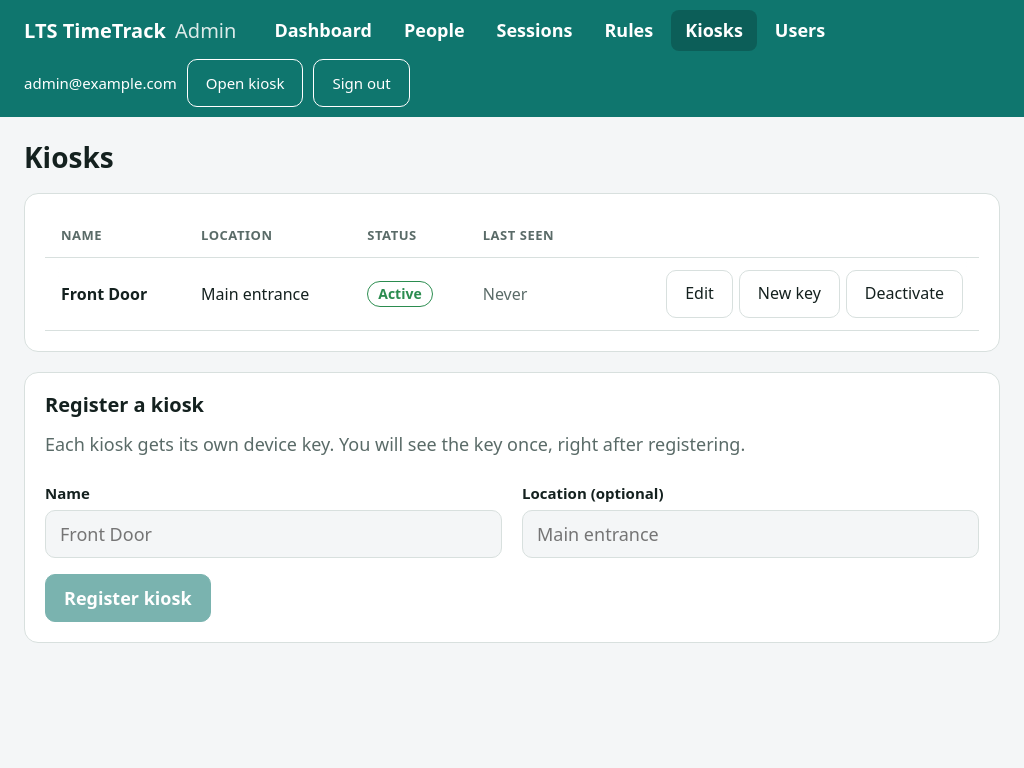
Test: kiosks page › renames a kiosk and changes its location
Click the button with aria-label "Edit Front Door" at x=700, y=294, box [666,270,733,318]
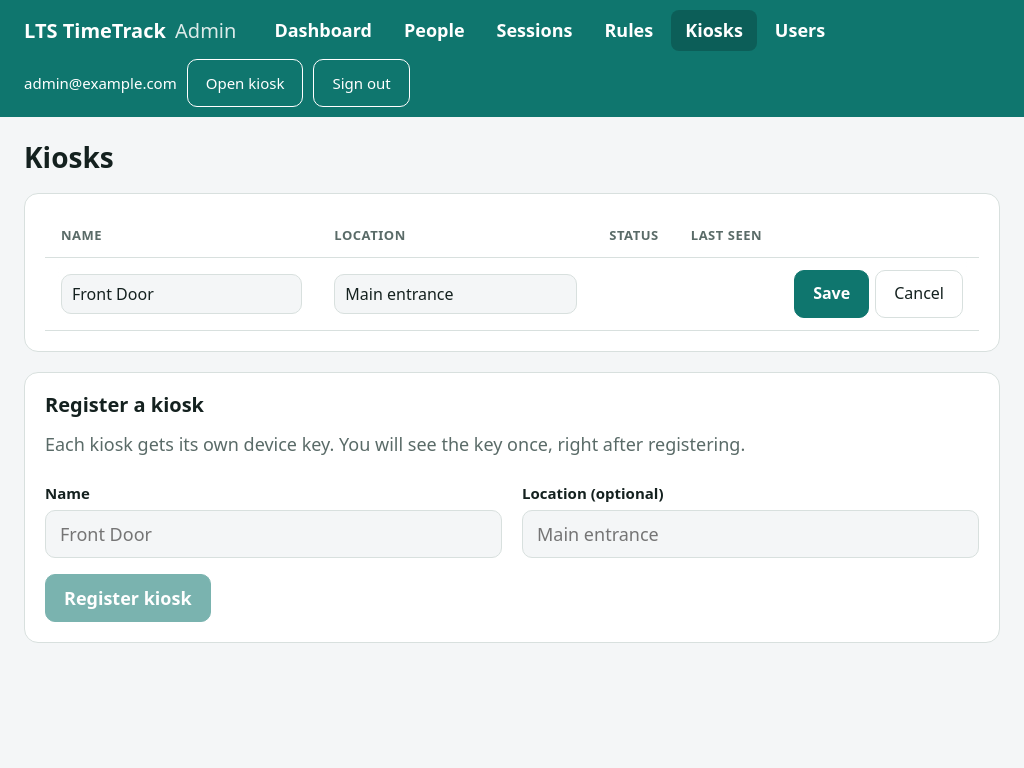
Replace the text in the field named "Kiosk name" with "Main Door" at x=182, y=294, box [61,274,302,314]
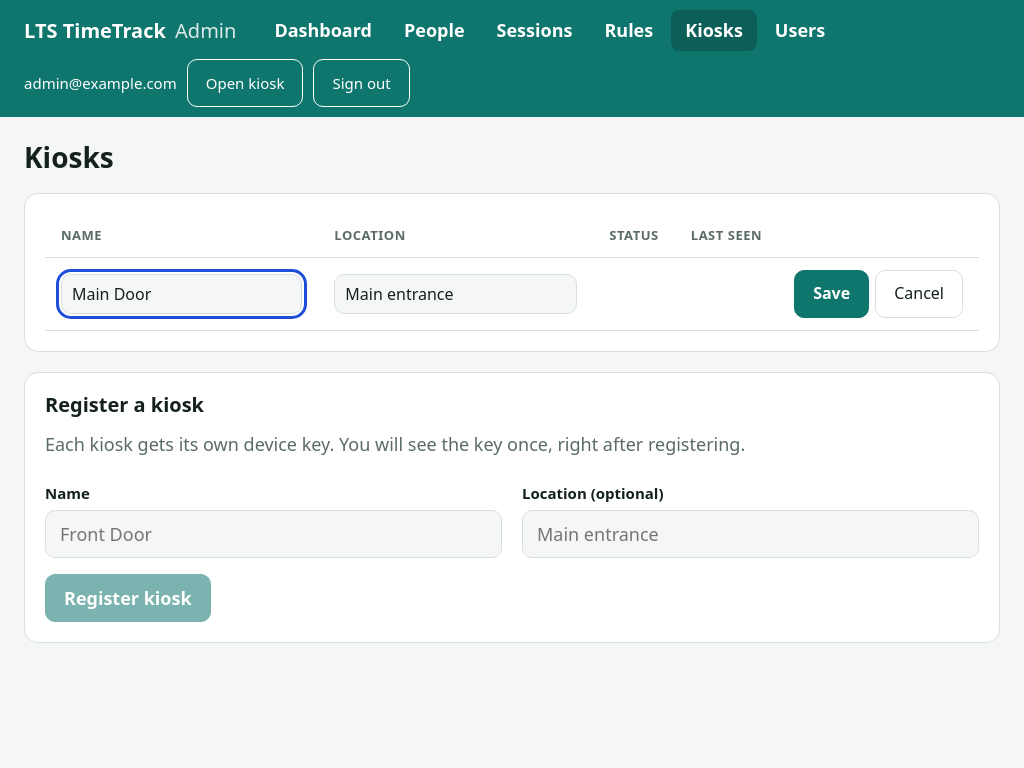
Clear the field named "Location" at x=456, y=294, box [334,274,577,314]
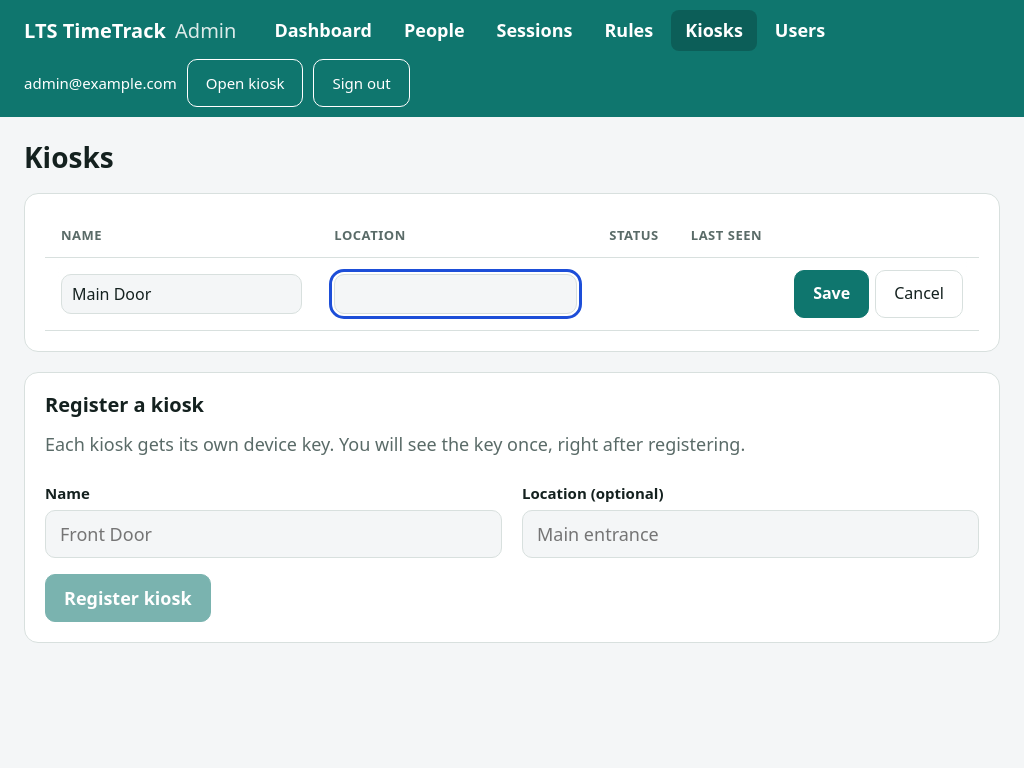
Click the button "Save" at x=832, y=294, box [794,270,869,318]
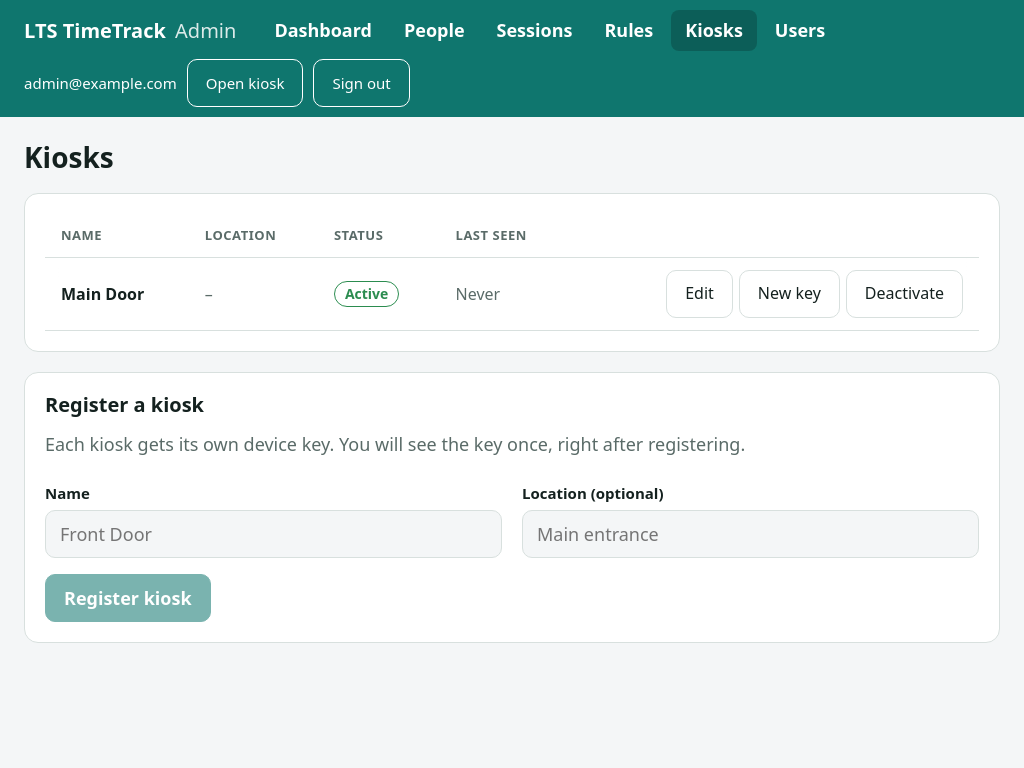
Now the cell "Main Door" is shown, box [45,257,189,331]
